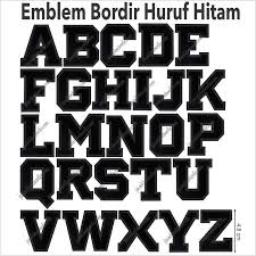a: (20, 21, 64, 71)
b: (56, 22, 102, 68)
c: (98, 20, 138, 70)
d: (130, 18, 180, 68)
e: (172, 17, 216, 69)
f: (13, 66, 63, 114)
g: (48, 61, 94, 115)
h: (91, 67, 135, 113)
i: (133, 70, 153, 110)
j: (152, 70, 186, 110)
k: (185, 66, 227, 114)
l: (11, 110, 59, 158)
m: (50, 110, 108, 162)
n: (102, 110, 146, 162)
o: (148, 112, 186, 160)
p: (184, 111, 226, 155)
q: (18, 157, 54, 209)
r: (52, 156, 94, 206)
s: (94, 152, 136, 206)
t: (130, 153, 174, 205)
u: (173, 152, 213, 204)
v: (18, 206, 64, 256)
w: (62, 204, 120, 256)
x: (109, 204, 165, 256)
y: (161, 204, 197, 256)
z: (197, 204, 239, 256)
